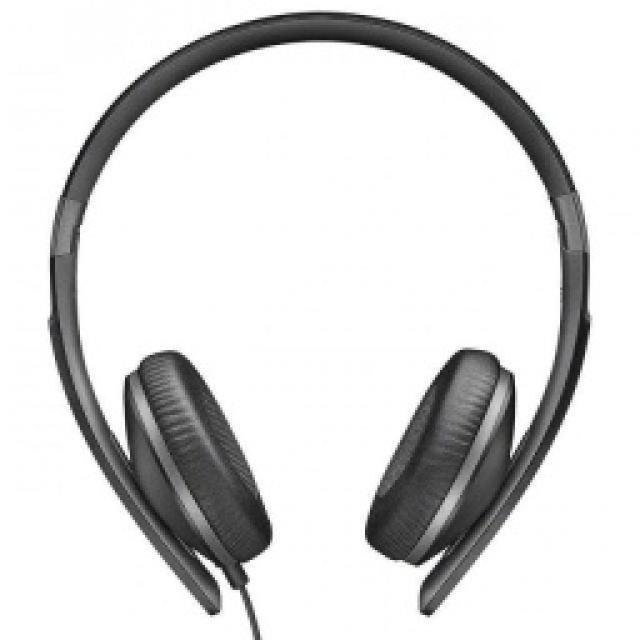headphones: (45, 8, 593, 638)
